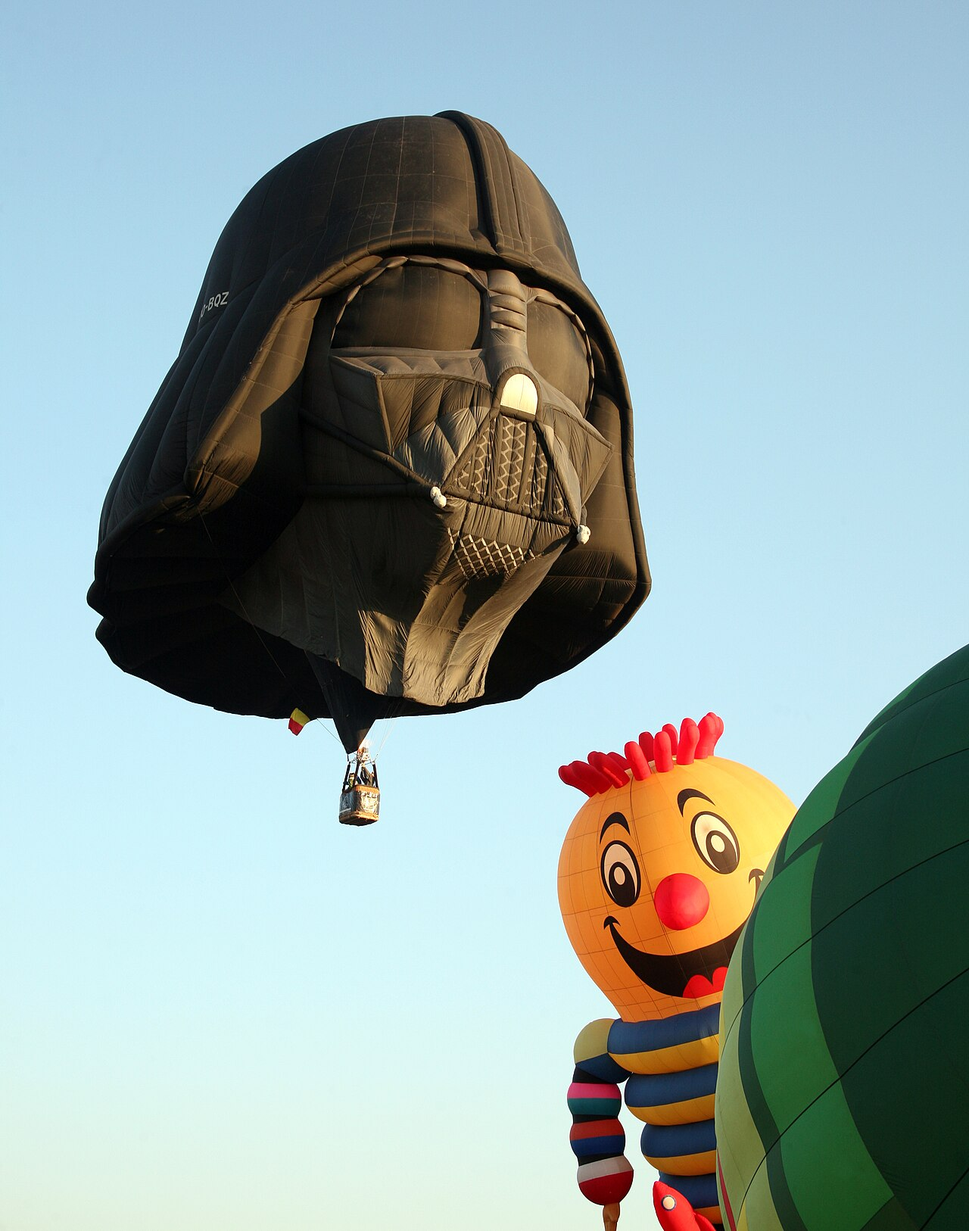balloon: (85, 84, 653, 853), (713, 619, 969, 1231), (555, 689, 797, 1231)
